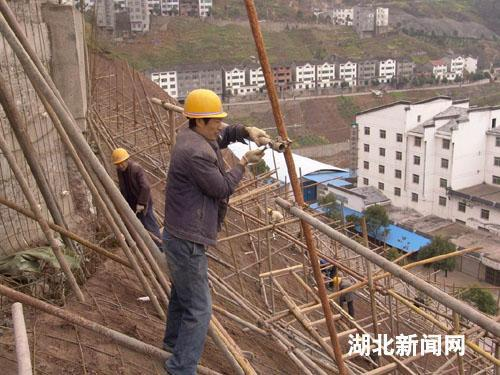helmet: (179, 85, 231, 144), (112, 145, 135, 175)
